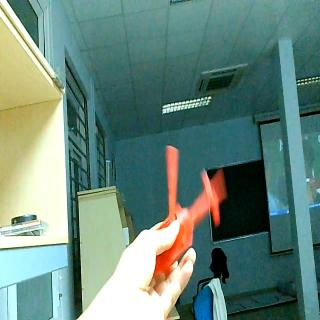Helicopter: (154, 144, 226, 258)
